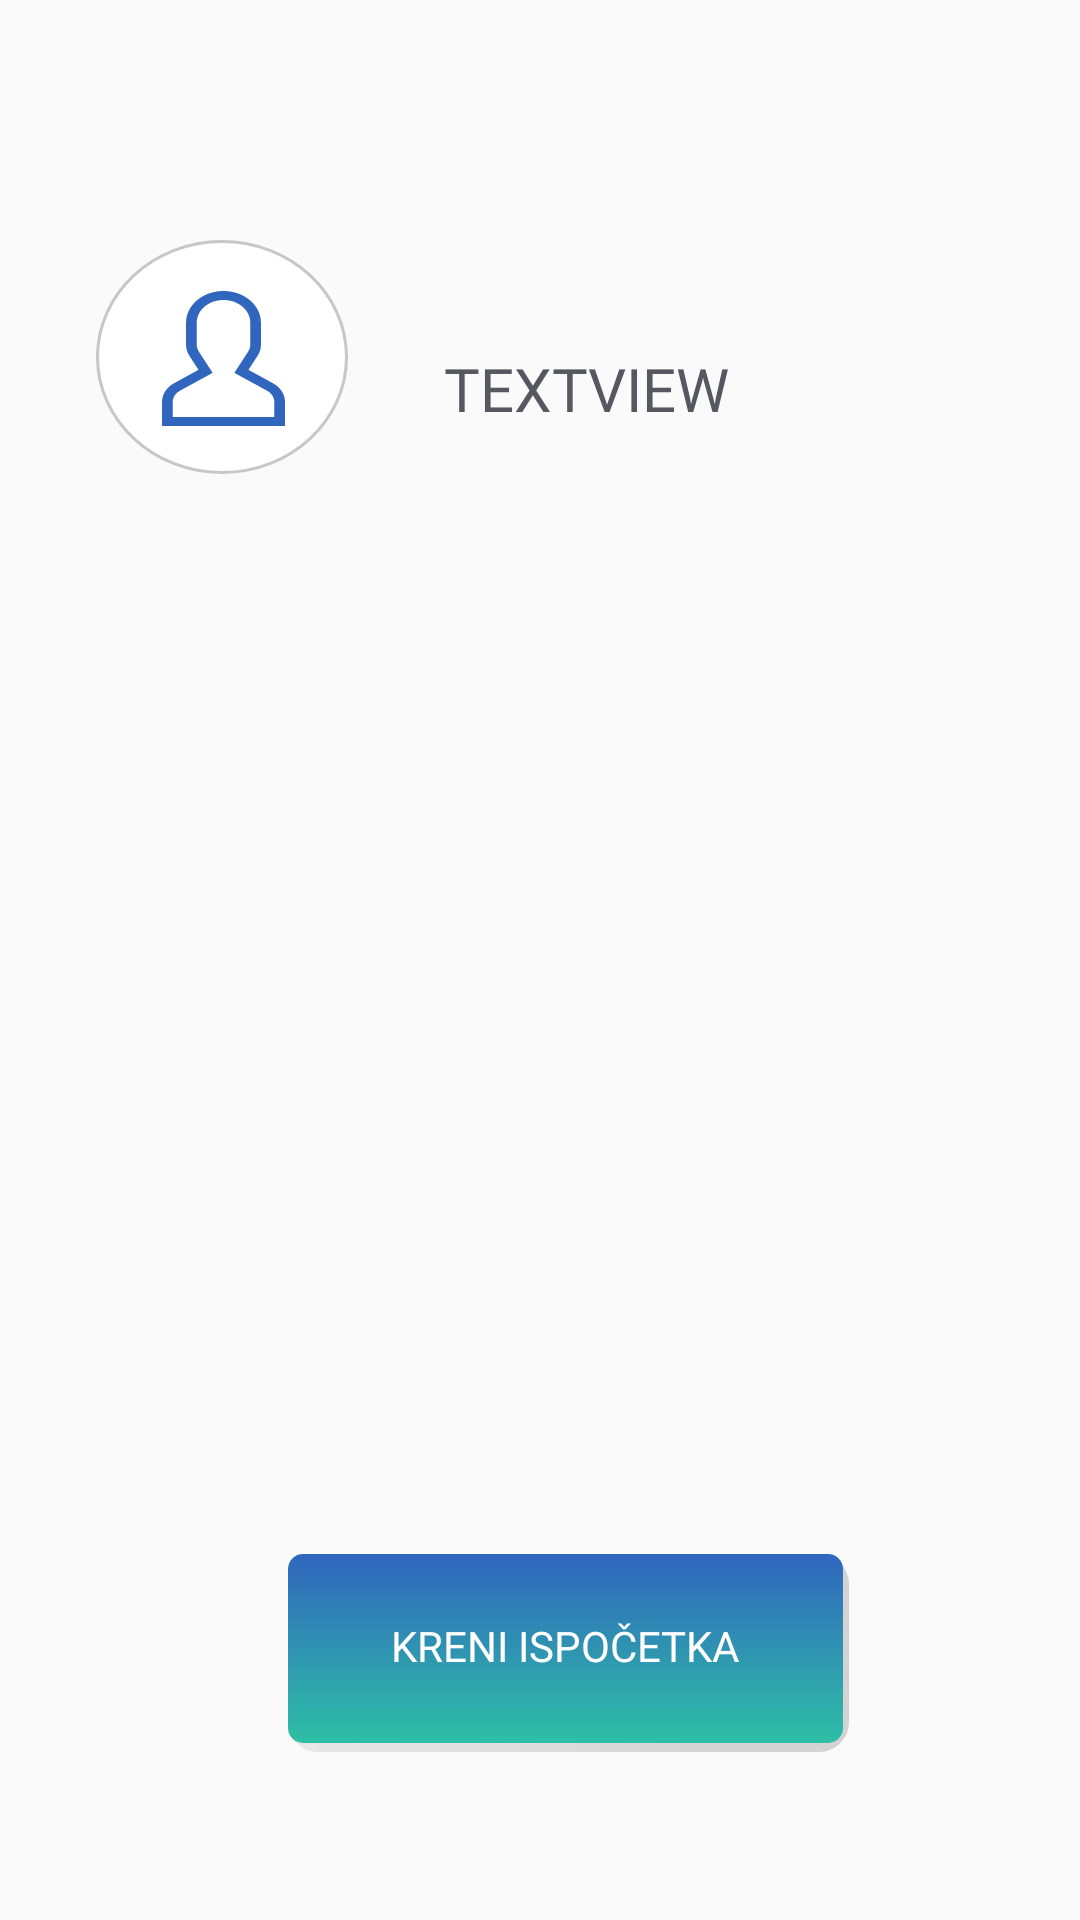

Where icons sit on this 1080*1920 app screen, as (x1, y1, x2, y2):
user profile: (96, 240, 348, 474)
